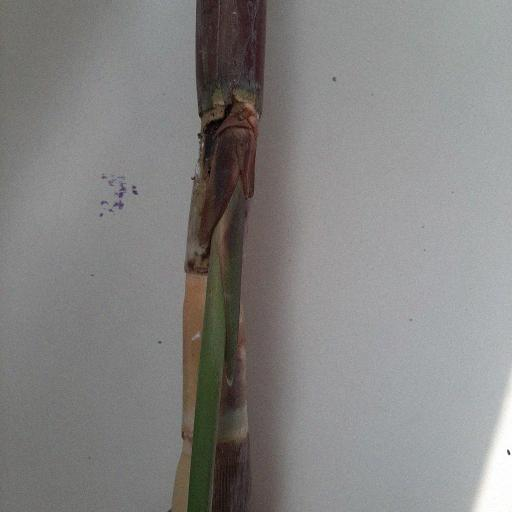Sprouted_Bud: (221, 96, 259, 189)
